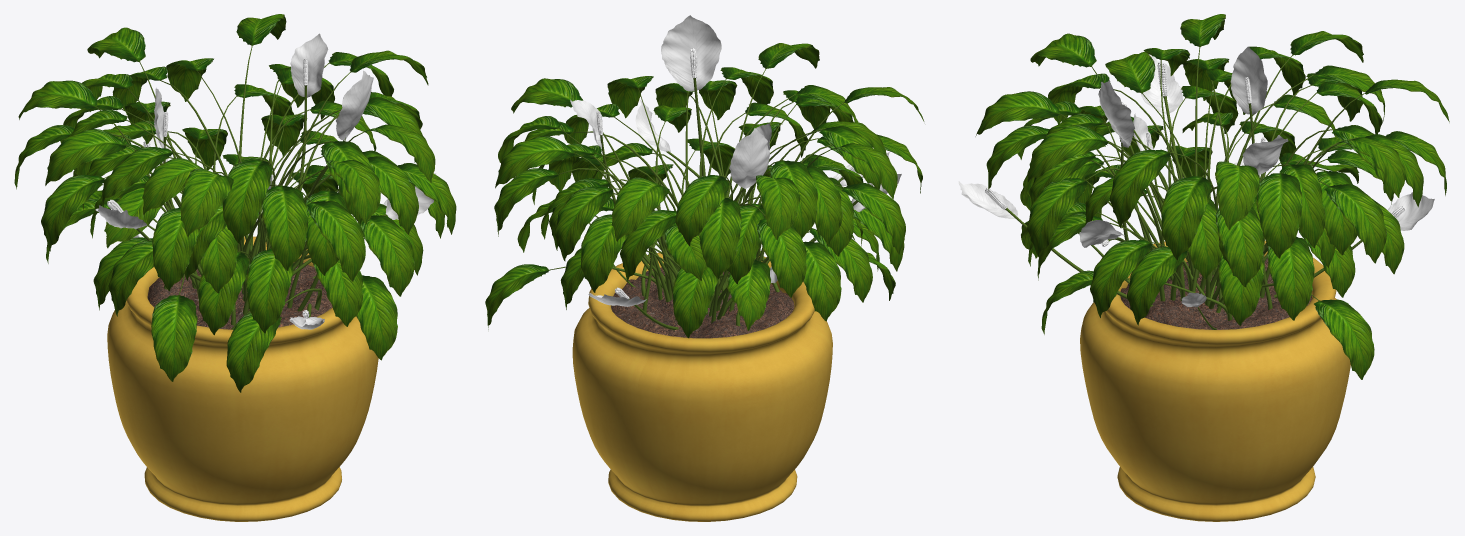
Rendered from peace_lilies.glb.
3 views of the same model, side by side, from view 1: azimuth 30°, elevation 25°; view 2: azimuth 150°, elevation 25°; view 3: azimuth 270°, elevation 25° (orthographic). The views are drawn at different scales.
Parts seen in each view (by area): view 1: Leaf_1, Vase_0, Leaf Lily.005_7, Leaf Lily.002_4, Leaf Lily.009_11, Leaf Lily.001_3, Leaf Lily.006_8; view 2: Leaf_1, Vase_0, Leaf Lily.002_4, Leaf Lily.001_3, Leaf Lily.005_7, Leaf Lily.006_8, Leaf Lily.003_5; view 3: Leaf_1, Vase_0, Leaf Lily.001_3, Leaf Lily.009_11, Leaf Lily.002_4, Leaf Lily_2, Leaf Lily.003_5, Leaf Lily.005_7, Leaf Lily.006_8.
Boxes of the visible parts, x1=… form: Leaf_1: x1=14, y1=14, x2=456, y2=392; Vase_0: x1=107, y1=236, x2=378, y2=521; Leaf Lily.005_7: x1=290, y1=33, x2=328, y2=189; Leaf Lily.002_4: x1=297, y1=70, x2=373, y2=311; Leaf Lily.009_11: x1=95, y1=199, x2=200, y2=280; Leaf Lily.001_3: x1=154, y1=88, x2=196, y2=288; Leaf Lily.006_8: x1=231, y1=173, x2=436, y2=329; Leaf_1: x1=485, y1=43, x2=924, y2=338; Vase_0: x1=572, y1=252, x2=832, y2=521; Leaf Lily.002_4: x1=661, y1=15, x2=721, y2=176; Leaf Lily.001_3: x1=717, y1=128, x2=769, y2=319; Leaf Lily.005_7: x1=570, y1=99, x2=662, y2=288; Leaf Lily.006_8: x1=635, y1=100, x2=779, y2=292; Leaf Lily.003_5: x1=588, y1=287, x2=678, y2=330; Leaf_1: x1=975, y1=14, x2=1449, y2=379; Vase_0: x1=1080, y1=240, x2=1350, y2=521; Leaf Lily.001_3: x1=1230, y1=46, x2=1267, y2=143; Leaf Lily.009_11: x1=1141, y1=54, x2=1212, y2=276; Leaf Lily.002_4: x1=1098, y1=80, x2=1134, y2=240; Leaf Lily_2: x1=958, y1=181, x2=1153, y2=306; Leaf Lily.003_5: x1=1274, y1=192, x2=1434, y2=297; Leaf Lily.005_7: x1=1217, y1=135, x2=1288, y2=306; Leaf Lily.006_8: x1=1079, y1=220, x2=1124, y2=247.
Bounding box in the file's own units: 1.19 × 1.27 × 1.31.
6 materials, 4 textured.
